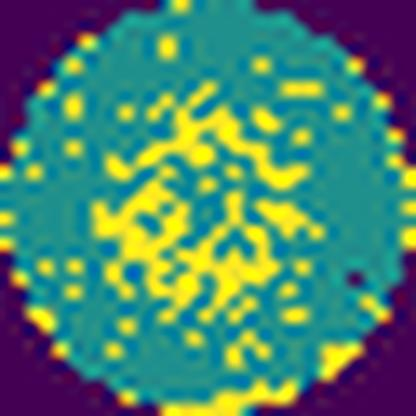Donut: (80, 80, 335, 348)
